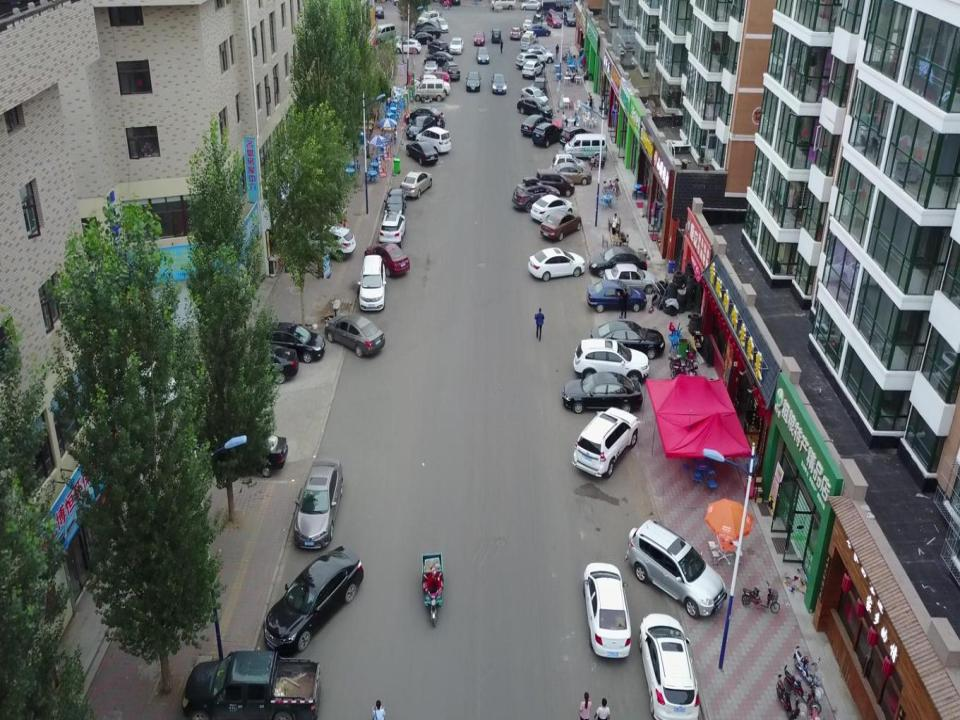car: (262, 545, 370, 661), (624, 511, 728, 620), (638, 608, 702, 720), (570, 406, 642, 486), (580, 556, 635, 660), (292, 452, 344, 550), (210, 426, 289, 482), (253, 313, 324, 365), (560, 371, 642, 416), (574, 338, 650, 386), (220, 340, 297, 386), (590, 318, 666, 362), (324, 310, 388, 358), (357, 247, 392, 317), (527, 244, 585, 285), (302, 219, 357, 261), (585, 278, 650, 312), (511, 170, 562, 213), (589, 246, 649, 279), (363, 239, 411, 280), (602, 264, 658, 298), (540, 206, 584, 245), (530, 192, 573, 227), (377, 206, 408, 250), (534, 167, 574, 198), (398, 168, 436, 200), (549, 161, 593, 185), (520, 112, 552, 145), (404, 138, 438, 168), (549, 151, 587, 177), (414, 125, 452, 151), (401, 113, 436, 139), (384, 185, 408, 220), (516, 96, 552, 118), (417, 71, 451, 94), (560, 125, 592, 149), (407, 106, 443, 126), (531, 123, 563, 145), (527, 43, 555, 68), (392, 36, 424, 56), (520, 83, 548, 105), (525, 46, 555, 66), (422, 49, 453, 67), (424, 68, 450, 88), (514, 48, 538, 69), (425, 37, 448, 58), (522, 60, 544, 81), (442, 57, 459, 84), (407, 28, 434, 45), (465, 69, 483, 93), (489, 72, 508, 94), (411, 24, 440, 38), (532, 69, 549, 91), (474, 44, 490, 67), (526, 22, 552, 36), (415, 20, 443, 33), (448, 34, 464, 54), (422, 58, 438, 78), (471, 28, 487, 47), (519, 0, 543, 12), (561, 10, 577, 26), (435, 16, 449, 34), (508, 26, 523, 40), (522, 30, 538, 42), (374, 4, 386, 19), (522, 15, 533, 31), (524, 12, 538, 24), (492, 28, 503, 42)
truck: (174, 653, 320, 720)
van: (566, 133, 608, 161), (412, 80, 449, 105), (372, 22, 397, 44), (416, 9, 440, 28), (534, 0, 558, 15), (546, 10, 562, 30), (518, 33, 534, 50)
